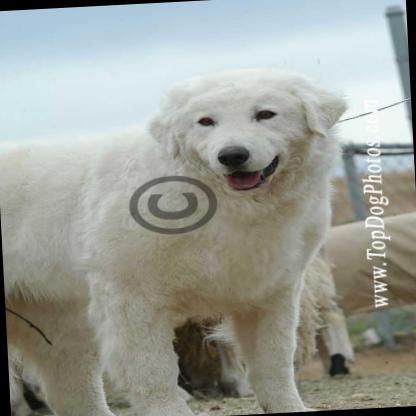kuvasz: (0, 59, 362, 416)
